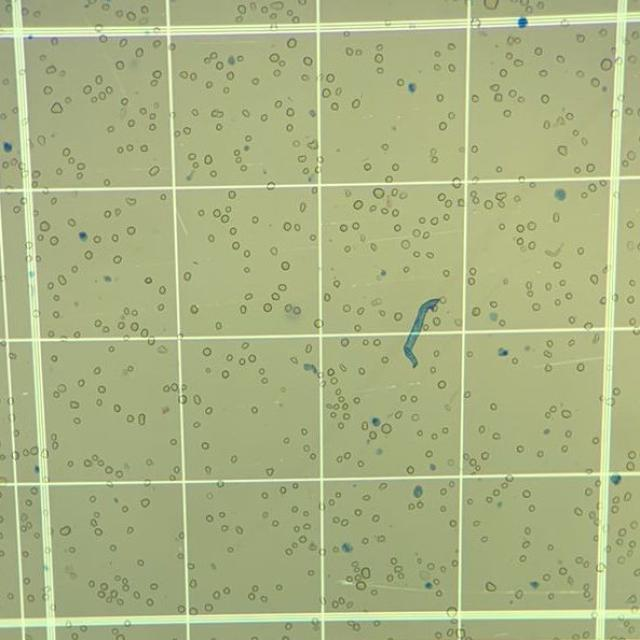Cell: (470, 16, 482, 35), (483, 0, 499, 10), (123, 197, 139, 207), (600, 58, 612, 71), (372, 187, 385, 199), (50, 101, 62, 114), (148, 165, 160, 177), (556, 145, 568, 156), (59, 525, 71, 536), (359, 567, 370, 579), (302, 56, 314, 67), (307, 139, 319, 150), (45, 64, 57, 75), (609, 108, 621, 119), (555, 116, 566, 128), (626, 149, 637, 161), (210, 109, 223, 119), (156, 344, 169, 354), (202, 346, 213, 357), (39, 221, 50, 232), (381, 423, 392, 434), (9, 450, 20, 461), (321, 87, 332, 98), (373, 53, 384, 64), (625, 240, 636, 251), (625, 594, 637, 604), (268, 52, 280, 62), (177, 69, 189, 79), (151, 69, 163, 79), (182, 126, 192, 138), (58, 274, 68, 286), (352, 200, 364, 210), (526, 220, 536, 232), (471, 306, 481, 318), (565, 575, 575, 587), (572, 507, 584, 517), (622, 491, 632, 503), (270, 1, 283, 10), (451, 177, 461, 188), (286, 38, 297, 48), (36, 135, 46, 146), (485, 582, 496, 592), (446, 606, 456, 617), (115, 60, 125, 71), (50, 235, 60, 246), (400, 240, 411, 250), (338, 223, 349, 233), (432, 316, 442, 327), (338, 362, 348, 373), (393, 564, 404, 574), (535, 1, 546, 11), (513, 58, 524, 68), (621, 36, 632, 46), (538, 68, 549, 78), (540, 94, 550, 105), (494, 92, 504, 103), (586, 162, 596, 173), (484, 199, 494, 210), (514, 589, 524, 600), (629, 605, 640, 615), (584, 487, 594, 498), (137, 414, 146, 426), (135, 47, 144, 59), (95, 74, 104, 86), (183, 270, 192, 282), (462, 0, 475, 8), (203, 154, 213, 164), (140, 498, 150, 508), (280, 261, 290, 271), (561, 409, 571, 419), (596, 562, 606, 572), (456, 628, 466, 638), (4, 4, 14, 14), (94, 23, 104, 33), (126, 11, 136, 21), (236, 5, 246, 15), (250, 77, 260, 87), (285, 107, 295, 117), (189, 108, 199, 118), (50, 36, 60, 46), (82, 85, 92, 95), (105, 85, 115, 95), (67, 218, 77, 228), (24, 240, 34, 250), (112, 254, 122, 264), (57, 383, 67, 393), (76, 378, 86, 388), (28, 486, 38, 496), (108, 543, 118, 553), (188, 606, 198, 616), (284, 621, 294, 631), (284, 547, 294, 557), (212, 208, 222, 218), (326, 72, 336, 82), (330, 102, 340, 112), (351, 99, 361, 109), (438, 121, 448, 131), (430, 216, 440, 226), (356, 306, 366, 316), (372, 338, 382, 348), (340, 337, 350, 347), (360, 421, 370, 431), (368, 430, 378, 440), (394, 410, 404, 420), (378, 482, 388, 492), (371, 514, 381, 524), (345, 600, 355, 610), (525, 5, 535, 15), (560, 18, 570, 28), (534, 46, 544, 56), (598, 28, 608, 38), (614, 56, 624, 66), (590, 77, 600, 87), (624, 106, 634, 116), (542, 120, 552, 130), (588, 182, 598, 192), (598, 178, 608, 188), (467, 276, 477, 286), (602, 266, 612, 276), (584, 322, 594, 332), (558, 566, 568, 576), (542, 572, 552, 582), (628, 539, 638, 549), (355, 581, 366, 590), (98, 91, 107, 102), (40, 448, 49, 459), (203, 603, 214, 612), (204, 465, 213, 476), (193, 394, 202, 405), (243, 292, 254, 301), (283, 221, 292, 232), (270, 292, 281, 301), (446, 43, 457, 52), (575, 34, 586, 43), (627, 55, 638, 64), (630, 30, 639, 41), (575, 69, 586, 78), (552, 261, 563, 270), (590, 273, 599, 284), (628, 316, 637, 327), (543, 349, 552, 360), (481, 450, 490, 461), (617, 528, 628, 537), (189, 578, 197, 590), (518, 0, 530, 8), (495, 192, 507, 200), (552, 212, 560, 224), (591, 534, 603, 542), (521, 489, 531, 498), (126, 226, 136, 235), (84, 250, 93, 260), (178, 394, 187, 404), (98, 34, 108, 43), (119, 38, 128, 48), (140, 4, 149, 14), (138, 17, 148, 26), (168, 42, 177, 52), (209, 51, 219, 60), (300, 73, 310, 82), (285, 122, 294, 132), (205, 80, 214, 90), (189, 72, 198, 82), (44, 86, 54, 95), (148, 122, 157, 132), (127, 118, 136, 128), (54, 167, 64, 176), (31, 170, 41, 179), (103, 178, 112, 188), (187, 152, 197, 161), (32, 309, 42, 318), (94, 318, 103, 328), (29, 446, 38, 456), (97, 385, 107, 394), (92, 366, 102, 375), (178, 383, 187, 393), (112, 403, 121, 413), (105, 465, 114, 475), (83, 459, 93, 468), (0, 476, 9, 486), (177, 604, 186, 614), (26, 594, 36, 603), (79, 624, 89, 633), (212, 590, 221, 600), (308, 542, 317, 552), (235, 525, 244, 535), (220, 524, 230, 533), (278, 386, 288, 395), (229, 226, 238, 236), (228, 190, 237, 200), (263, 303, 272, 313), (345, 47, 354, 57), (315, 72, 324, 82), (396, 77, 406, 86), (447, 63, 457, 72), (429, 147, 438, 157), (391, 162, 400, 172), (437, 192, 446, 202), (456, 198, 466, 207), (422, 230, 431, 240), (412, 229, 422, 238), (391, 208, 400, 218), (342, 304, 352, 313), (326, 367, 335, 377), (406, 502, 416, 511), (331, 515, 340, 525), (319, 596, 328, 606), (426, 562, 436, 571), (450, 558, 459, 568), (377, 534, 387, 543), (360, 537, 370, 546), (505, 51, 514, 61), (499, 68, 508, 78), (556, 55, 566, 64), (611, 46, 621, 55), (508, 89, 518, 98), (470, 94, 480, 103), (490, 83, 500, 92), (502, 109, 512, 118), (517, 175, 526, 185), (494, 165, 504, 174), (513, 194, 522, 204), (576, 246, 585, 256), (531, 302, 540, 312), (598, 296, 608, 305), (631, 326, 640, 336), (576, 362, 585, 372), (612, 387, 622, 396), (606, 398, 616, 407), (596, 394, 606, 403), (492, 488, 501, 498), (617, 555, 626, 565), (629, 520, 638, 530), (593, 517, 602, 527), (587, 510, 596, 520), (595, 501, 604, 511), (626, 461, 635, 471), (627, 451, 637, 460), (560, 444, 570, 453), (371, 298, 382, 306), (101, 3, 112, 11), (18, 68, 29, 76), (26, 138, 34, 149), (148, 335, 156, 346), (7, 352, 18, 360), (248, 353, 256, 364), (239, 304, 247, 315), (506, 35, 514, 46), (632, 567, 640, 578), (584, 467, 595, 475), (437, 380, 446, 389), (70, 400, 79, 409), (265, 467, 274, 476), (2, 77, 11, 86), (120, 96, 129, 105), (148, 111, 157, 120), (5, 185, 14, 194), (117, 321, 126, 330), (130, 322, 139, 331), (11, 429, 20, 438), (95, 398, 104, 407), (126, 414, 135, 423), (145, 458, 154, 467), (6, 592, 15, 601), (122, 462, 131, 471), (298, 534, 307, 543), (318, 502, 327, 511), (260, 511, 269, 520), (302, 443, 311, 452), (250, 405, 259, 414), (251, 215, 260, 224), (278, 283, 287, 292), (343, 29, 352, 38), (384, 18, 393, 27), (334, 86, 343, 95), (363, 163, 372, 172), (384, 175, 393, 184), (393, 224, 402, 233), (351, 222, 360, 231), (353, 324, 362, 333), (393, 312, 402, 321), (454, 318, 463, 327), (343, 451, 352, 460), (410, 395, 419, 404), (386, 574, 395, 583), (514, 36, 523, 45), (626, 220, 635, 229), (528, 241, 537, 250), (498, 223, 507, 232), (516, 224, 525, 233), (498, 319, 507, 328), (567, 339, 576, 348), (522, 540, 531, 549), (546, 543, 555, 552), (324, 292, 332, 302), (190, 304, 198, 314), (20, 8, 30, 16), (152, 40, 162, 48), (226, 71, 234, 81), (268, 12, 278, 20), (290, 16, 300, 24), (272, 69, 282, 77), (274, 99, 282, 109), (260, 113, 268, 123), (223, 86, 231, 96), (292, 140, 302, 148), (126, 143, 134, 153), (10, 157, 18, 167), (114, 207, 122, 217), (158, 284, 166, 294), (157, 302, 165, 312), (7, 396, 15, 406), (20, 512, 28, 522), (46, 526, 54, 536), (94, 528, 104, 536), (145, 598, 155, 606), (133, 590, 141, 600), (110, 589, 118, 599), (41, 586, 51, 594), (23, 576, 31, 586), (48, 602, 56, 612), (65, 619, 73, 629), (222, 586, 232, 594), (302, 523, 312, 531), (290, 506, 300, 514), (216, 480, 224, 490), (230, 455, 238, 465), (204, 406, 214, 414), (221, 370, 229, 380), (215, 321, 223, 331), (243, 249, 251, 259), (232, 240, 240, 250), (221, 214, 229, 224), (308, 234, 318, 242), (270, 246, 278, 256), (292, 306, 302, 314), (285, 303, 293, 313), (436, 93, 444, 103), (380, 143, 390, 151), (390, 187, 398, 197), (380, 207, 390, 215), (344, 244, 352, 254), (380, 356, 390, 364), (358, 366, 366, 376), (352, 396, 362, 404), (337, 421, 345, 431), (444, 403, 452, 413), (429, 462, 437, 472), (416, 500, 424, 510), (373, 618, 381, 628), (565, 112, 575, 120), (580, 137, 588, 147), (573, 166, 583, 174), (579, 191, 589, 199), (471, 144, 479, 154), (627, 295, 635, 305), (568, 315, 576, 325), (592, 334, 600, 344), (543, 364, 553, 372), (511, 356, 519, 366), (491, 432, 501, 440), (462, 452, 470, 462), (519, 554, 527, 564), (574, 556, 584, 564), (622, 620, 632, 628), (626, 550, 636, 558), (602, 525, 612, 533), (610, 506, 620, 514), (594, 480, 604, 488), (300, 201, 306, 214), (76, 163, 87, 170), (361, 494, 372, 501), (406, 465, 414, 474), (504, 474, 513, 482), (266, 182, 275, 190), (314, 319, 322, 328), (310, 618, 318, 627), (115, 10, 124, 18), (216, 61, 224, 70), (260, 5, 268, 14), (269, 23, 277, 32), (241, 110, 250, 118), (298, 154, 306, 163), (301, 167, 310, 175), (240, 164, 248, 173), (215, 123, 224, 131), (0, 112, 8, 121), (64, 96, 73, 104), (90, 95, 98, 104), (139, 107, 147, 116), (151, 102, 160, 110), (116, 146, 125, 154), (61, 148, 70, 156), (76, 171, 84, 180), (21, 170, 30, 178), (18, 162, 27, 170), (41, 187, 49, 196), (160, 192, 168, 201), (25, 254, 33, 263), (51, 310, 60, 318), (52, 294, 61, 302), (71, 265, 79, 274), (93, 235, 101, 244), (144, 276, 153, 284), (140, 329, 149, 337), (52, 390, 60, 399), (8, 413, 16, 422), (73, 416, 82, 424), (162, 384, 170, 393), (169, 438, 178, 446), (168, 474, 176, 483), (42, 508, 51, 516), (177, 552, 186, 560), (136, 559, 145, 567), (116, 598, 125, 606), (100, 582, 108, 591), (96, 590, 105, 598), (41, 594, 50, 602), (186, 562, 195, 570), (259, 594, 267, 603), (318, 548, 327, 556), (206, 514, 214, 523), (261, 491, 269, 500), (176, 333, 185, 341), (241, 342, 250, 350), (293, 223, 301, 232), (305, 344, 313, 353), (290, 356, 298, 365), (433, 50, 442, 58), (448, 111, 456, 120), (430, 156, 439, 164), (399, 191, 408, 199), (369, 204, 377, 213), (344, 190, 352, 199), (439, 296, 447, 305), (432, 349, 440, 358), (429, 365, 437, 374), (330, 376, 338, 385), (334, 387, 342, 396), (332, 402, 340, 411), (335, 455, 343, 464), (411, 413, 419, 422), (440, 488, 448, 497), (449, 519, 457, 528), (341, 518, 349, 527), (354, 508, 363, 516), (353, 623, 361, 632), (389, 557, 398, 565), (446, 628, 454, 637), (435, 589, 443, 598), (617, 94, 626, 102), (571, 128, 579, 137), (612, 191, 621, 199), (471, 176, 479, 185), (472, 197, 481, 205), (489, 301, 498, 309), (558, 278, 566, 287), (564, 292, 573, 300), (612, 293, 620, 302), (545, 340, 554, 348), (489, 402, 498, 410), (478, 425, 486, 434), (485, 496, 494, 504), (582, 560, 590, 569), (547, 592, 555, 601), (590, 611, 598, 620), (582, 582, 591, 590), (603, 545, 612, 553), (615, 538, 624, 546), (612, 495, 620, 504), (536, 450, 545, 458), (516, 445, 525, 453), (466, 351, 475, 359), (297, 0, 307, 7), (2, 160, 9, 170), (37, 232, 44, 242), (89, 494, 96, 504), (88, 579, 95, 589), (23, 633, 33, 640), (115, 633, 125, 640), (252, 584, 259, 594), (192, 421, 202, 428), (440, 427, 450, 434), (328, 498, 335, 508), (338, 596, 345, 606), (362, 608, 369, 618), (525, 280, 532, 290), (545, 282, 552, 292), (629, 278, 636, 288), (524, 526, 531, 536), (565, 429, 572, 439), (201, 442, 209, 450), (316, 156, 324, 164), (150, 79, 158, 87), (12, 106, 20, 114), (140, 144, 148, 152), (21, 197, 29, 205), (13, 206, 21, 214), (104, 210, 112, 218), (173, 130, 181, 138), (168, 111, 176, 119), (47, 330, 55, 338), (50, 354, 58, 362), (50, 433, 58, 441), (173, 466, 181, 474), (91, 454, 99, 462), (42, 476, 50, 484), (24, 499, 32, 507), (68, 546, 76, 554), (90, 519, 98, 527), (121, 506, 129, 514), (126, 526, 134, 534), (150, 582, 158, 590), (122, 577, 130, 585), (114, 574, 122, 582), (71, 632, 79, 640), (111, 628, 119, 636), (276, 584, 284, 592), (307, 569, 315, 577), (279, 486, 287, 494), (282, 437, 290, 445), (260, 377, 268, 385), (238, 358, 246, 366), (243, 266, 251, 274), (376, 44, 384, 52), (444, 200, 452, 208), (426, 251, 434, 259), (413, 250, 421, 258), (332, 280, 340, 288), (422, 324, 430, 332), (362, 338, 370, 346), (338, 396, 346, 404), (357, 460, 365, 468), (440, 505, 448, 513), (332, 545, 340, 553), (345, 575, 353, 583), (397, 572, 405, 580), (434, 631, 442, 639), (432, 578, 440, 586), (516, 95, 524, 103), (621, 160, 629, 168), (470, 190, 478, 198), (497, 201, 505, 209), (468, 267, 476, 275), (526, 290, 534, 298), (470, 458, 478, 466), (466, 498, 474, 506), (528, 504, 536, 512), (582, 631, 590, 639), (628, 626, 636, 634), (584, 590, 592, 598), (592, 437, 600, 445), (153, 26, 160, 35), (235, 16, 244, 23), (250, 1, 257, 10), (311, 186, 318, 195), (31, 180, 38, 189), (31, 209, 38, 218), (34, 255, 43, 262), (112, 234, 119, 243), (22, 448, 29, 457), (171, 383, 178, 392), (144, 478, 151, 487), (115, 471, 124, 478), (20, 524, 27, 533), (69, 572, 78, 579), (291, 541, 298, 550), (301, 510, 310, 517), (271, 520, 280, 527), (206, 492, 215, 499), (292, 482, 299, 491), (226, 353, 233, 362), (198, 209, 205, 218), (433, 64, 442, 71), (457, 146, 466, 153), (418, 217, 427, 224), (370, 242, 377, 251), (359, 233, 366, 242), (319, 379, 326, 388), (425, 449, 432, 458), (431, 432, 438, 441), (400, 393, 407, 402), (332, 600, 339, 609), (516, 238, 525, 245), (554, 298, 561, 307), (549, 405, 556, 414), (463, 391, 472, 398), (571, 633, 580, 640), (86, 0, 98, 5), (33, 11, 41, 18), (203, 57, 211, 64), (237, 54, 244, 62), (278, 61, 286, 68), (315, 166, 322, 174), (234, 157, 242, 164), (233, 149, 241, 156), (245, 135, 252, 143), (38, 54, 46, 61), (59, 69, 66, 77), (51, 197, 58, 205), (210, 170, 217, 178), (47, 282, 54, 290), (103, 325, 110, 333), (123, 334, 130, 342), (73, 331, 81, 338), (52, 442, 59, 450), (108, 345, 116, 352), (97, 459, 104, 467), (26, 522, 33, 530), (106, 481, 113, 489), (122, 585, 130, 592), (248, 593, 255, 601), (293, 525, 300, 533), (226, 547, 234, 554), (301, 428, 308, 436), (258, 368, 265, 376), (208, 234, 215, 242), (224, 206, 232, 213), (355, 49, 363, 56), (376, 67, 384, 74), (379, 310, 386, 318), (431, 306, 439, 313), (442, 270, 450, 277), (403, 266, 410, 274), (317, 371, 325, 378), (342, 403, 350, 410), (343, 412, 350, 420), (330, 412, 338, 419), (447, 459, 455, 466), (416, 430, 424, 437), (448, 481, 456, 488), (350, 560, 358, 567), (353, 567, 361, 574), (347, 619, 354, 627), (529, 182, 537, 189), (475, 464, 482, 472), (480, 536, 488, 543), (617, 613, 625, 620), (124, 307, 130, 316), (449, 618, 458, 624), (519, 246, 528, 252), (286, 9, 293, 16), (107, 126, 114, 133), (68, 157, 75, 164), (192, 162, 199, 169), (0, 275, 7, 282), (61, 335, 68, 342), (0, 340, 7, 347), (0, 454, 7, 461), (127, 365, 134, 372), (22, 551, 29, 558), (44, 547, 51, 554), (443, 214, 450, 221), (335, 491, 342, 498), (501, 482, 508, 489), (473, 520, 480, 527), (131, 310, 139, 316), (68, 460, 74, 468), (34, 531, 40, 539), (92, 512, 100, 518), (179, 532, 185, 540), (218, 512, 226, 518), (310, 452, 316, 460), (374, 275, 382, 281), (354, 575, 362, 581), (370, 589, 378, 595), (440, 566, 446, 574), (503, 278, 509, 286), (610, 634, 618, 640), (123, 620, 130, 626), (83, 4, 90, 10), (205, 368, 212, 374), (326, 402, 332, 409), (416, 557, 422, 564), (545, 412, 551, 419), (0, 532, 4, 542), (0, 550, 5, 558), (250, 636, 260, 640), (281, 635, 289, 640), (120, 314, 126, 320), (0, 514, 3, 526), (106, 597, 112, 603), (464, 636, 473, 640), (618, 636, 626, 640), (0, 490, 3, 499)
